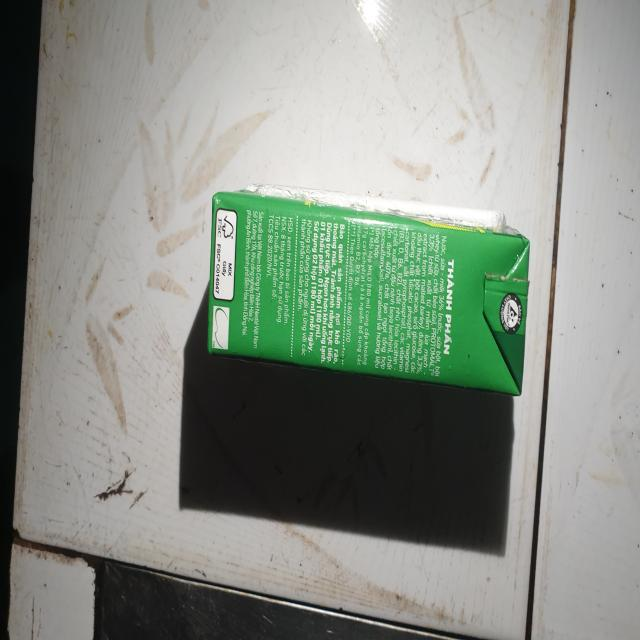Milo: (203, 180, 534, 411)
